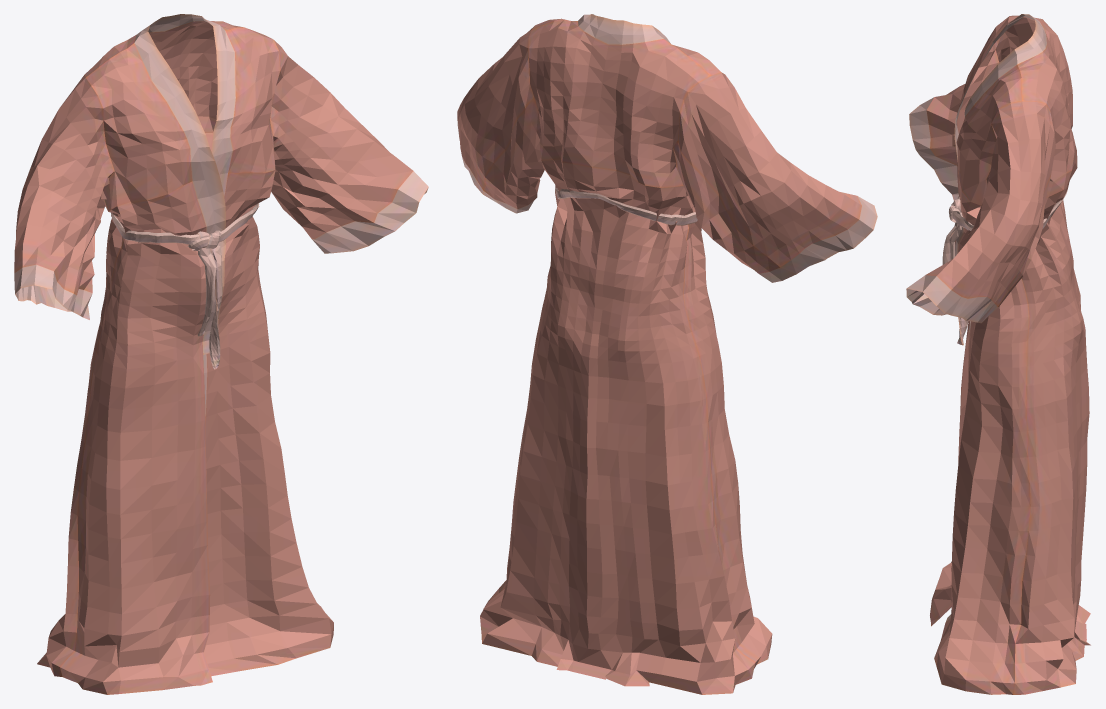
Rendered from mhw_mindfront_kimono.glb.
3 renders of one model, left to right at view 1: azimuth 30°, elevation 25°; view 2: azimuth 150°, elevation 25°; view 3: azimuth 270°, elevation 25°, orthographic. The views are drawn at different scales.
Parts seen in each view (by area): view 1: mhw_mindfront_kimono; view 2: mhw_mindfront_kimono; view 3: mhw_mindfront_kimono.
Boxes of the visible parts, bbox=[...] form: mhw_mindfront_kimono: bbox=[14, 14, 428, 694]; mhw_mindfront_kimono: bbox=[457, 14, 877, 694]; mhw_mindfront_kimono: bbox=[906, 14, 1090, 694].
Bounding box in the file's own units: 1.11 × 1.62 × 0.4457.
1 material, 1 textured.
